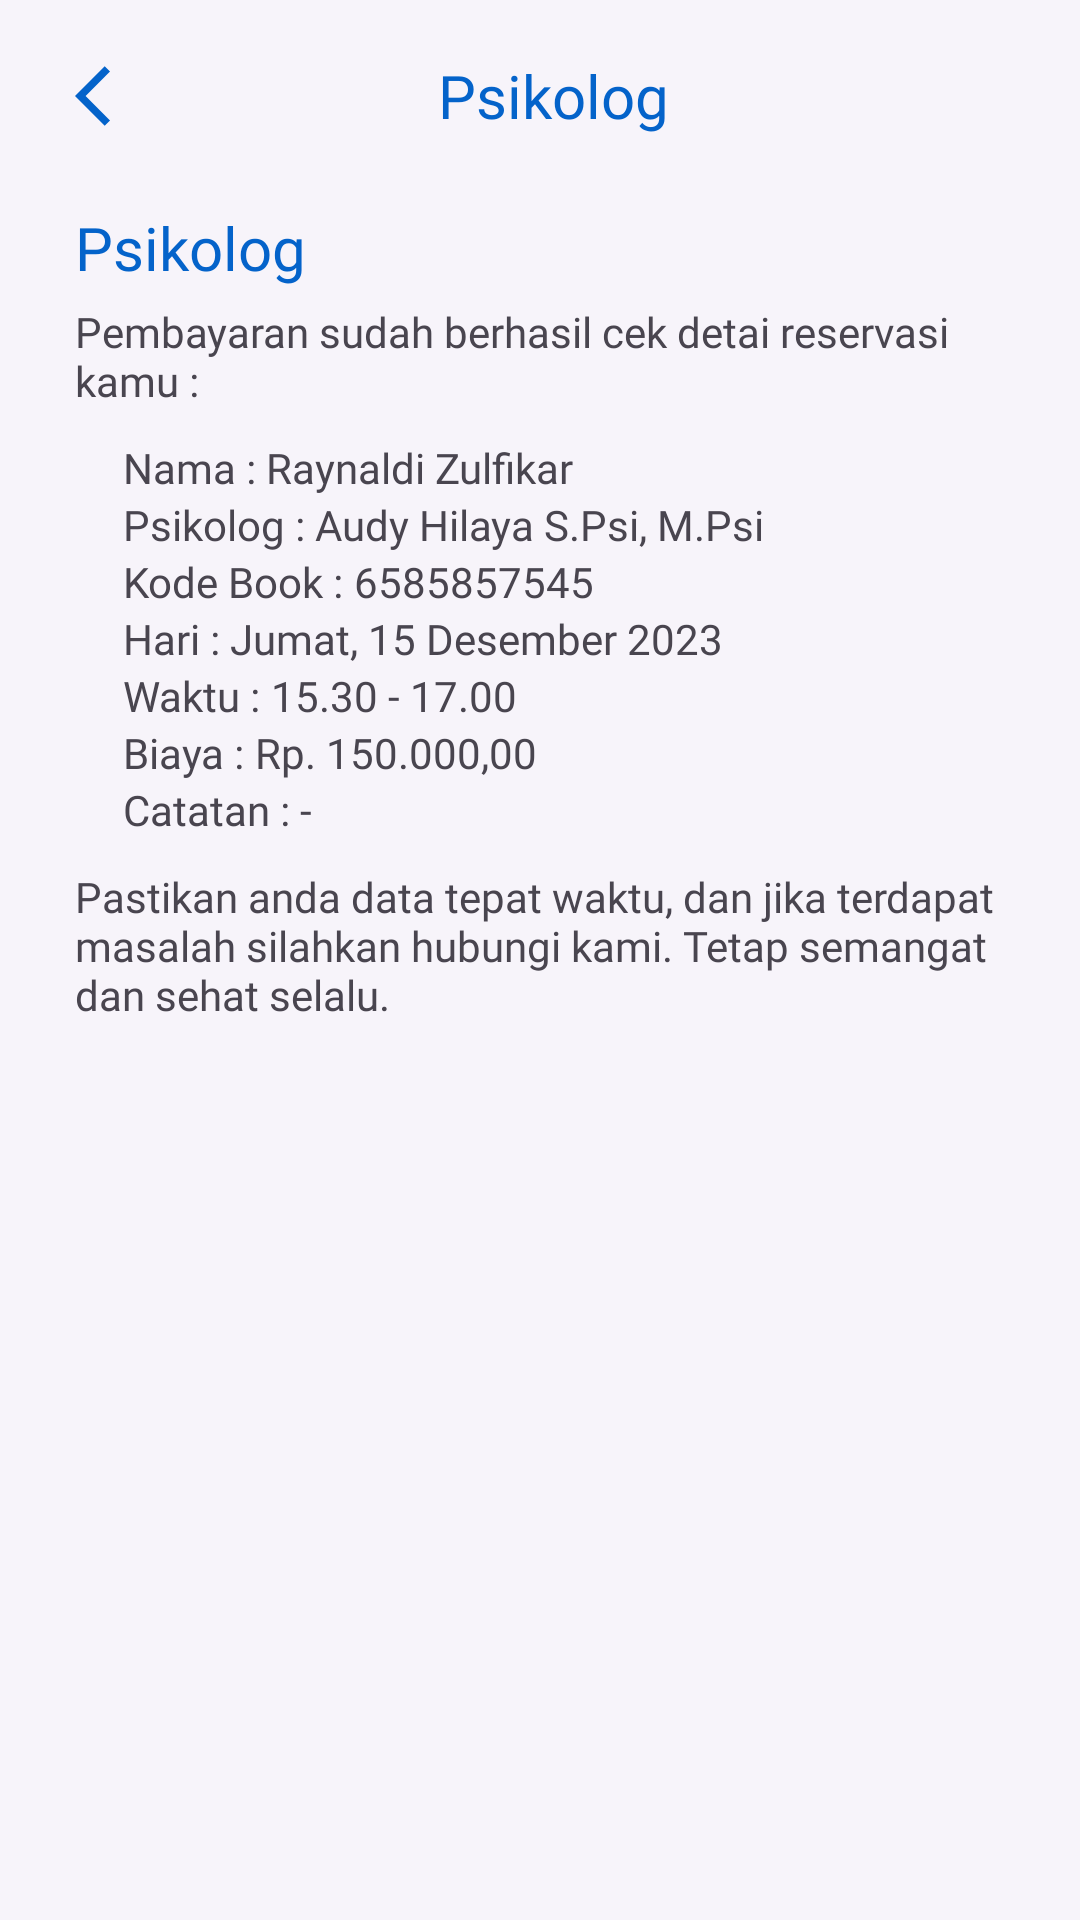

Screen size 1080px×1920px. Icon name, then its center in pixels as point (x, y):
Button Back: point (92, 96)
